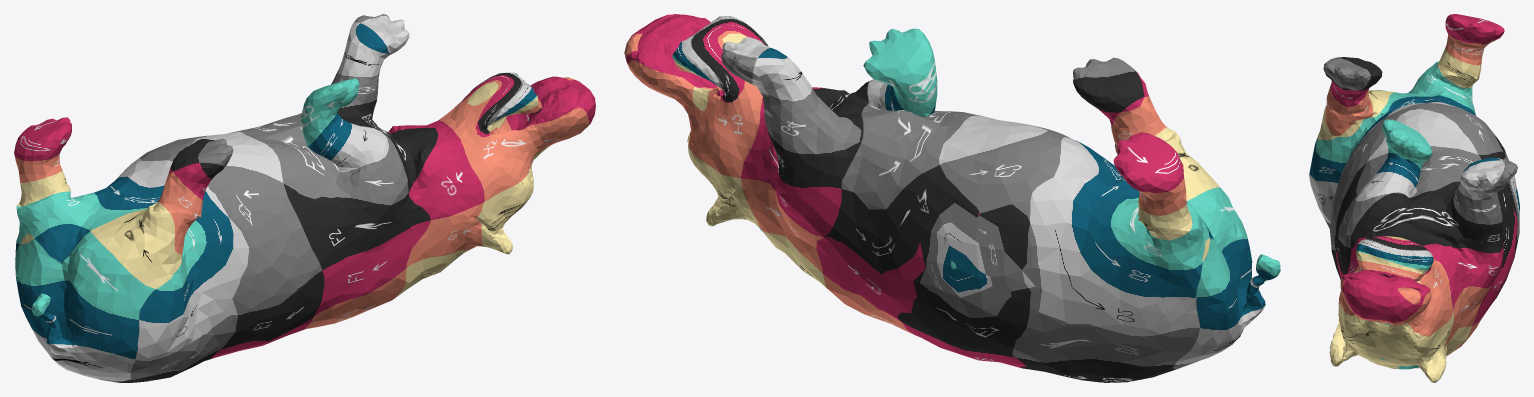
The model's file is cougar_02-hippo_04.obj.
3 views of the same model, side by side, from view 1: azimuth 30°, elevation 25°; view 2: azimuth 150°, elevation 25°; view 3: azimuth 270°, elevation 25° (orthographic). The views are drawn at different scales.
Parts seen in each view (by area): view 1: cougar_02-hippo_04_export; view 2: cougar_02-hippo_04_export; view 3: cougar_02-hippo_04_export.
Boxes of the visible parts, <box> form: cougar_02-hippo_04_export: <box>14,14,595,382</box>; cougar_02-hippo_04_export: <box>624,14,1280,382</box>; cougar_02-hippo_04_export: <box>1309,14,1519,382</box>.
Size of the model in its own units: 0.996 by 0.4291 by 0.3337.
